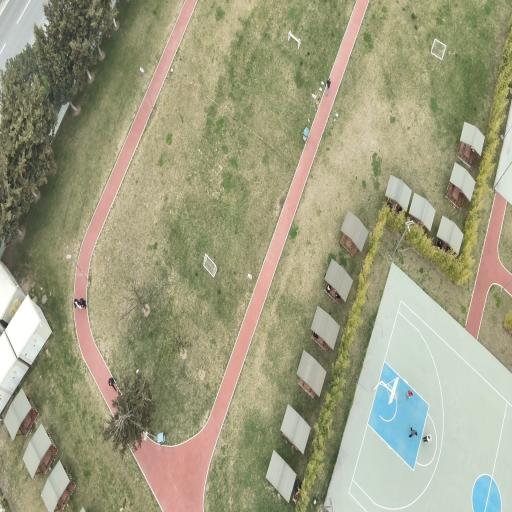person: (108, 377, 116, 391), (409, 427, 417, 438), (74, 299, 81, 309), (79, 298, 86, 308), (423, 434, 431, 442), (407, 390, 413, 400), (326, 284, 332, 292), (327, 78, 330, 94)
